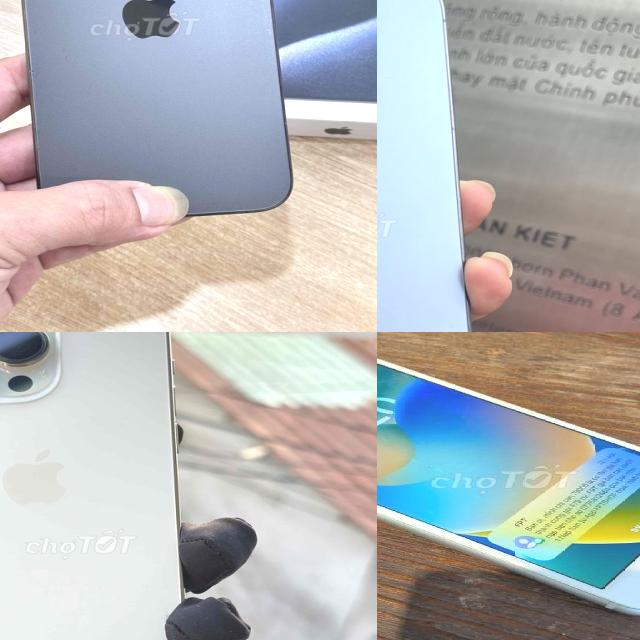gen_12_13: (377, 0, 486, 332)
gen_14: (0, 332, 191, 640)
gen_15: (0, 0, 303, 232)
gen_7_8: (377, 346, 640, 620)
